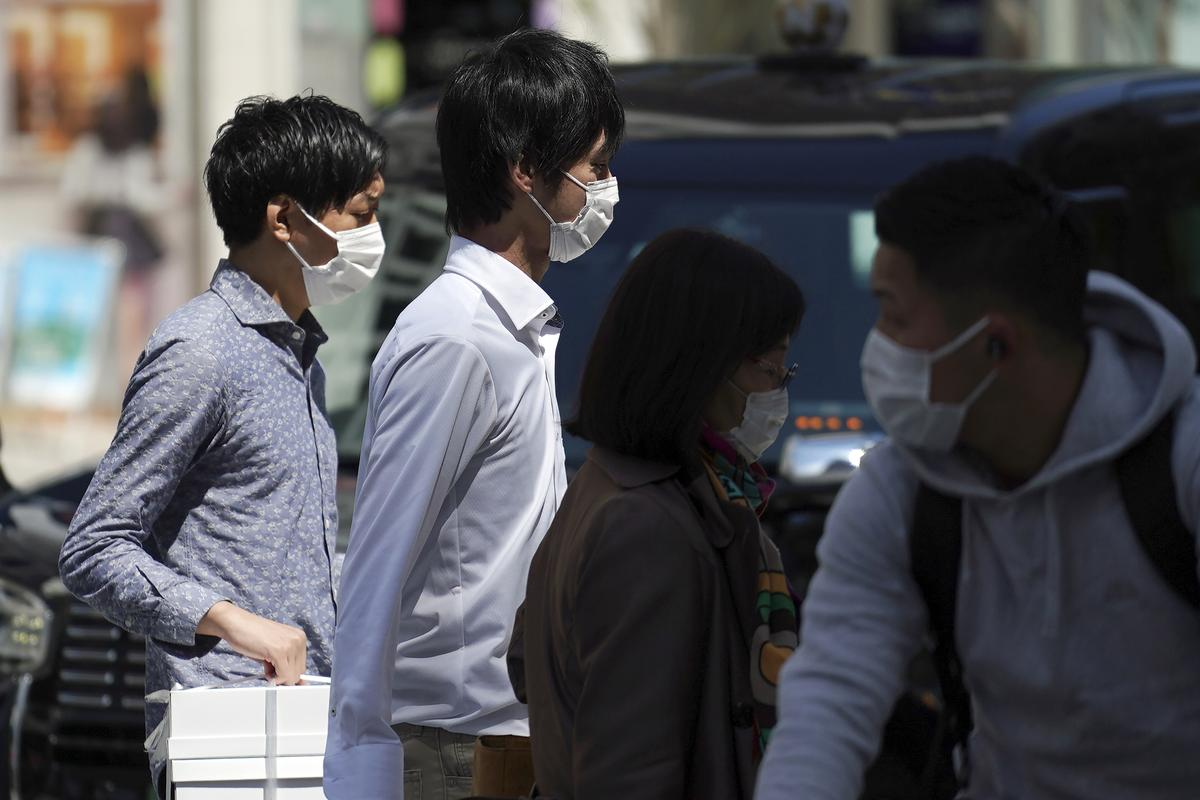mask: (852, 198, 1018, 447), (508, 75, 623, 268), (270, 138, 391, 306), (688, 284, 795, 462)
